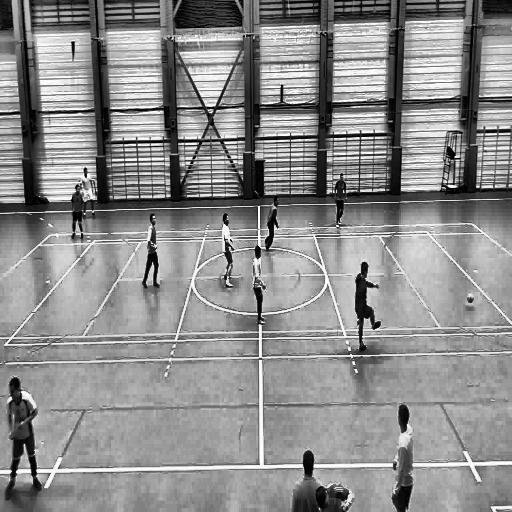ball: (465, 291, 476, 306)
player: (3, 373, 42, 499), (354, 261, 383, 353), (391, 399, 414, 512), (141, 212, 162, 291), (262, 194, 284, 253), (220, 211, 236, 289), (252, 245, 267, 328), (79, 166, 97, 218), (334, 170, 348, 233), (70, 184, 84, 242)
